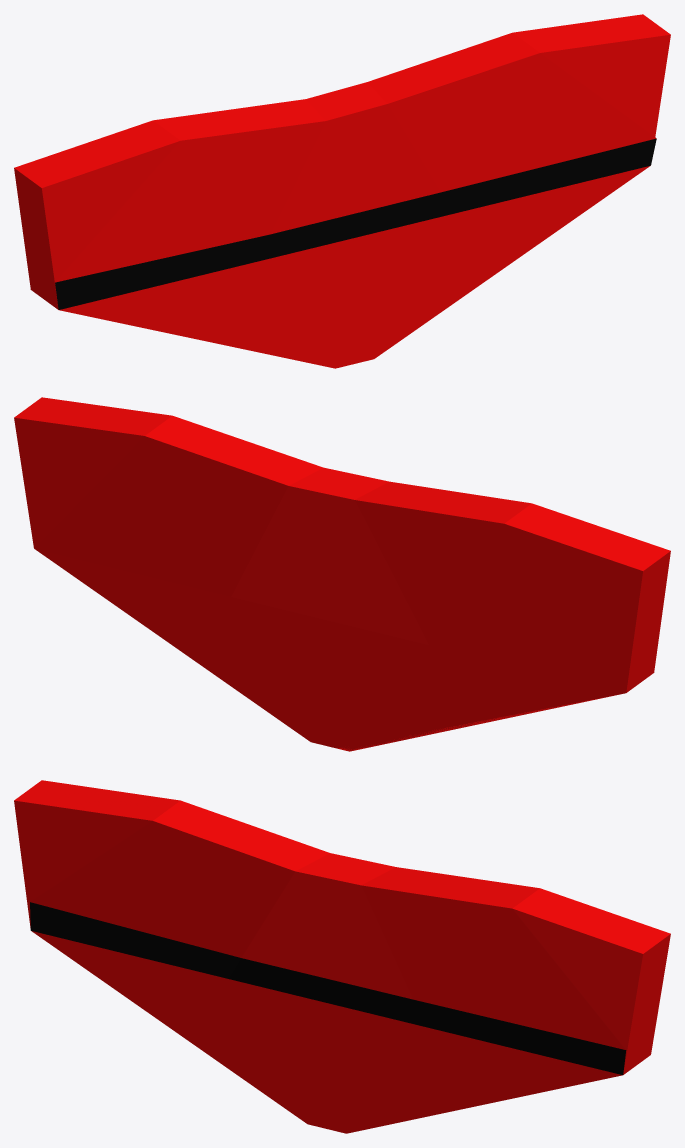
File: lips.fbx
3 views of the same model, one above another, from view 1: azimuth 30°, elevation 25°; view 2: azimuth 150°, elevation 25°; view 3: azimuth 330°, elevation 25° (orthographic).
Visible parts, largest first — view 1: Cube.001; view 2: Cube.001; view 3: Cube.001.
Part boxes in pixels (x1,y1,x2,y2): Cube.001: (14,14,670,368); Cube.001: (14,397,670,751); Cube.001: (14,780,670,1133).
Bounding box in the file's own units: 9.57 × 3.86 × 0.7817.
